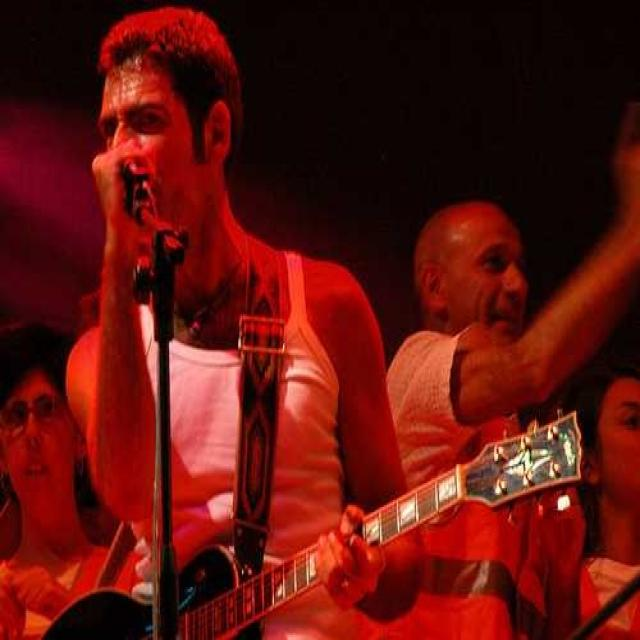microphone: (101, 137, 175, 231)
